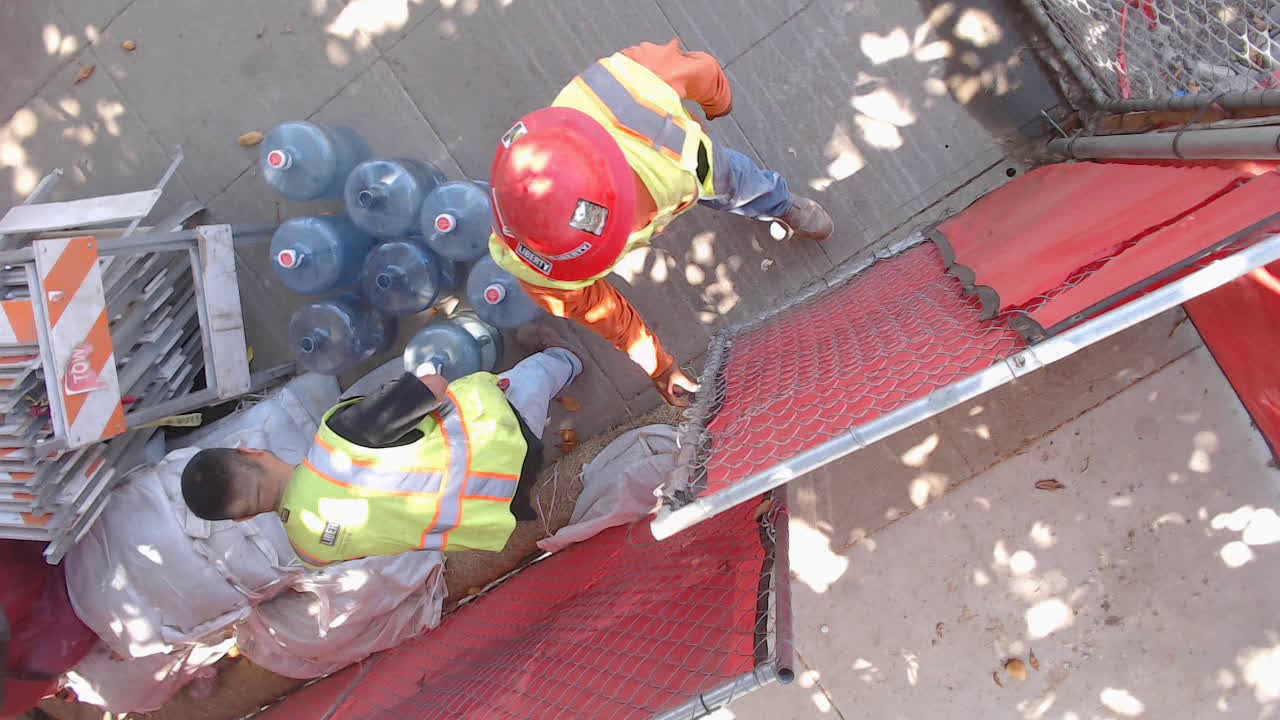hardhat: (489, 105, 639, 287)
safetyvest: (500, 55, 712, 302), (271, 371, 527, 567)
